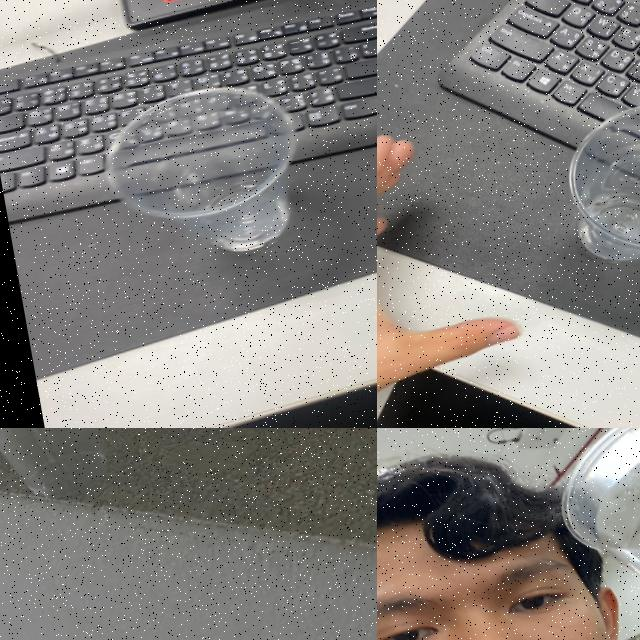glass: (85, 66, 322, 280), (537, 428, 640, 640), (546, 72, 640, 278), (0, 428, 121, 515)
